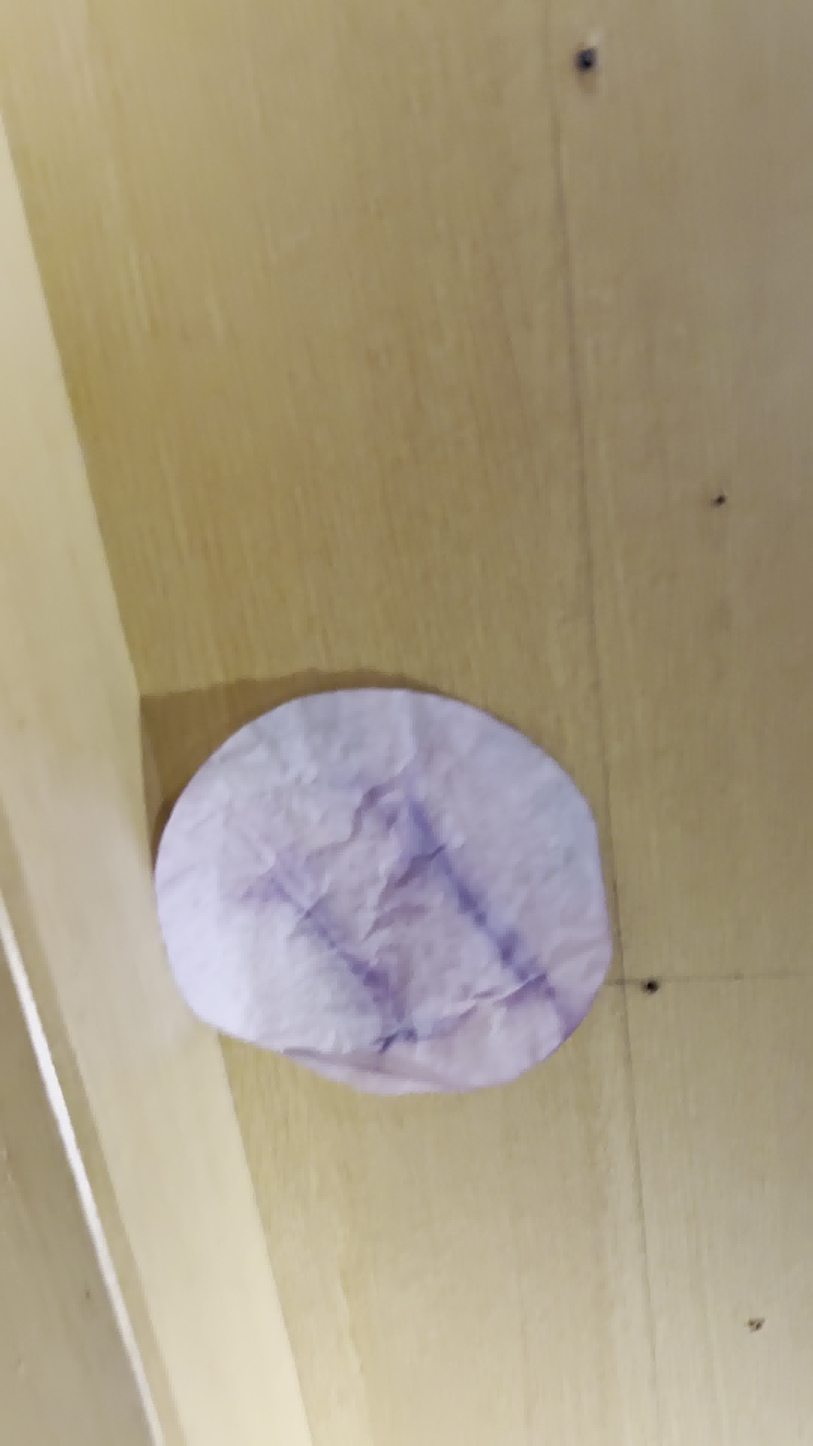Target: (150, 686, 611, 1092)
